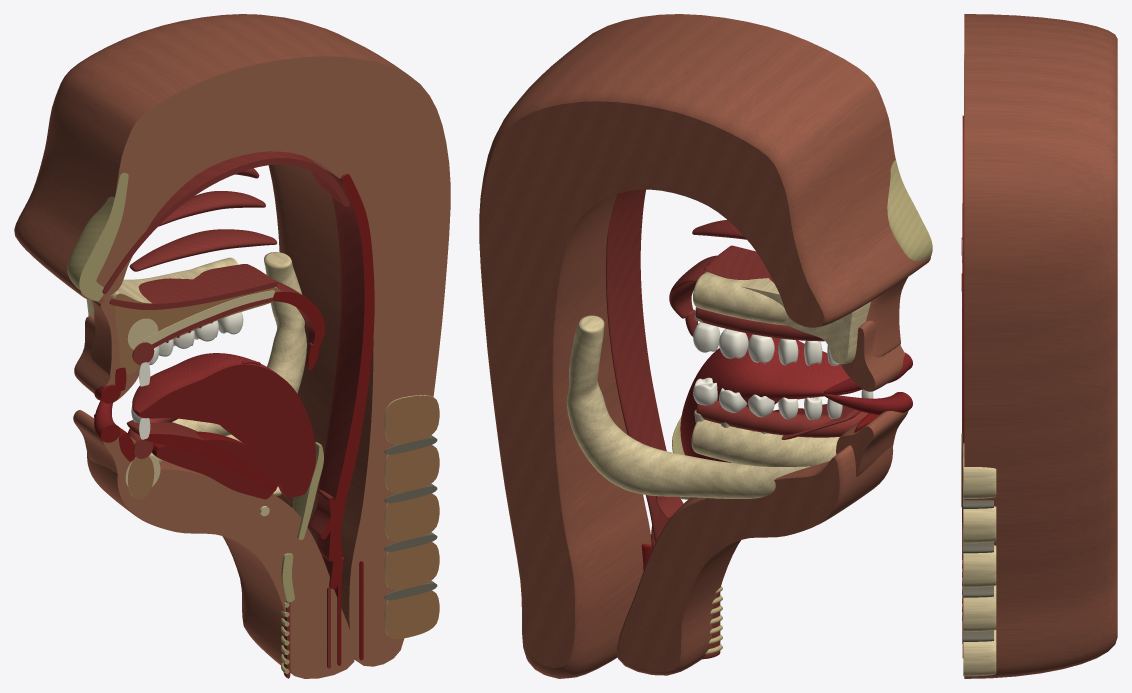
File: vocal_tract.glb
The picture shows the model from 3 angles, left to right: view 1: azimuth 30°, elevation 25°; view 2: azimuth 150°, elevation 25°; view 3: azimuth 270°, elevation 25°; orthographic projection. The views are drawn at different scales.
Visible parts, largest first — view 1: cranio_cervical_tissue, submandibular_tissue, tongue, pharynx, lower_jaw, nasal_floor, nasal_cavity, maxillary_support, nasal_bridge_cartilage, genioglossus, oral_cavity_boundary, inferior_nasal_concha (+20 smaller); view 2: cranio_cervical_tissue, submandibular_tissue, lower_jaw, pharynx, tongue, lower_alveolar_bone, upper_teeth, upper_alveolar_bone, lower_gingiva, lower_teeth, maxillary_support, nasal_bridge_cartilage (+7 smaller); view 3: cranio_cervical_tissue, cervical_body_6, cervical_body_7, cervical_body_5, cervical_body_4, cervical_body_3, pharynx, cervical_disc_5, cervical_disc_4, cervical_disc_6, cervical_disc_3, nasal_cavity.
Part boxes in pixels (left/top/right/bottom): cranio_cervical_tissue: left=14, top=14, right=450, bottom=666; submandibular_tissue: left=87, top=452, right=355, bottom=678; tongue: left=132, top=353, right=315, bottom=497; pharynx: left=316, top=169, right=374, bottom=561; lower_jaw: left=128, top=252, right=306, bottom=499; nasal_floor: left=109, top=264, right=277, bottom=309; nasal_cavity: left=102, top=151, right=349, bottom=293; maxillary_support: left=86, top=268, right=280, bottom=374; nasal_bridge_cartilage: left=67, top=172, right=128, bottom=301; genioglossus: left=151, top=431, right=279, bottom=499; oral_cavity_boundary: left=126, top=420, right=277, bottom=492; inferior_nasal_concha: left=129, top=229, right=277, bottom=271; cranio_cervical_tissue: left=479, top=14, right=930, bottom=678; submandibular_tissue: left=617, top=445, right=893, bottom=675; lower_jaw: left=566, top=315, right=810, bottom=498; pharynx: left=606, top=189, right=669, bottom=542; tongue: left=680, top=333, right=862, bottom=460; lower_alveolar_bone: left=691, top=420, right=839, bottom=466; upper_teeth: left=693, top=322, right=839, bottom=365; upper_alveolar_bone: left=693, top=273, right=788, bottom=325; lower_gingiva: left=696, top=400, right=868, bottom=437; lower_teeth: left=693, top=377, right=873, bottom=419; maxillary_support: left=704, top=271, right=870, bottom=364; nasal_bridge_cartilage: left=887, top=159, right=932, bottom=260; cranio_cervical_tissue: left=964, top=14, right=1117, bottom=678; cervical_body_6: left=963, top=585, right=996, bottom=631; cervical_body_7: left=963, top=630, right=996, bottom=676; cervical_body_5: left=963, top=545, right=996, bottom=587; cervical_body_4: left=963, top=506, right=996, bottom=543; cervical_body_3: left=963, top=443, right=996, bottom=498; pharynx: left=962, top=203, right=964, bottom=529; cervical_disc_5: left=963, top=572, right=993, bottom=597; cervical_disc_4: left=963, top=527, right=993, bottom=553; cervical_disc_6: left=963, top=616, right=993, bottom=641; cervical_disc_3: left=963, top=483, right=993, bottom=508; nasal_cavity: left=962, top=115, right=964, bottom=203.
Size of the model in its own units: 0.1683 by 0.2732 by 0.067.
14 materials, 12 textured.
